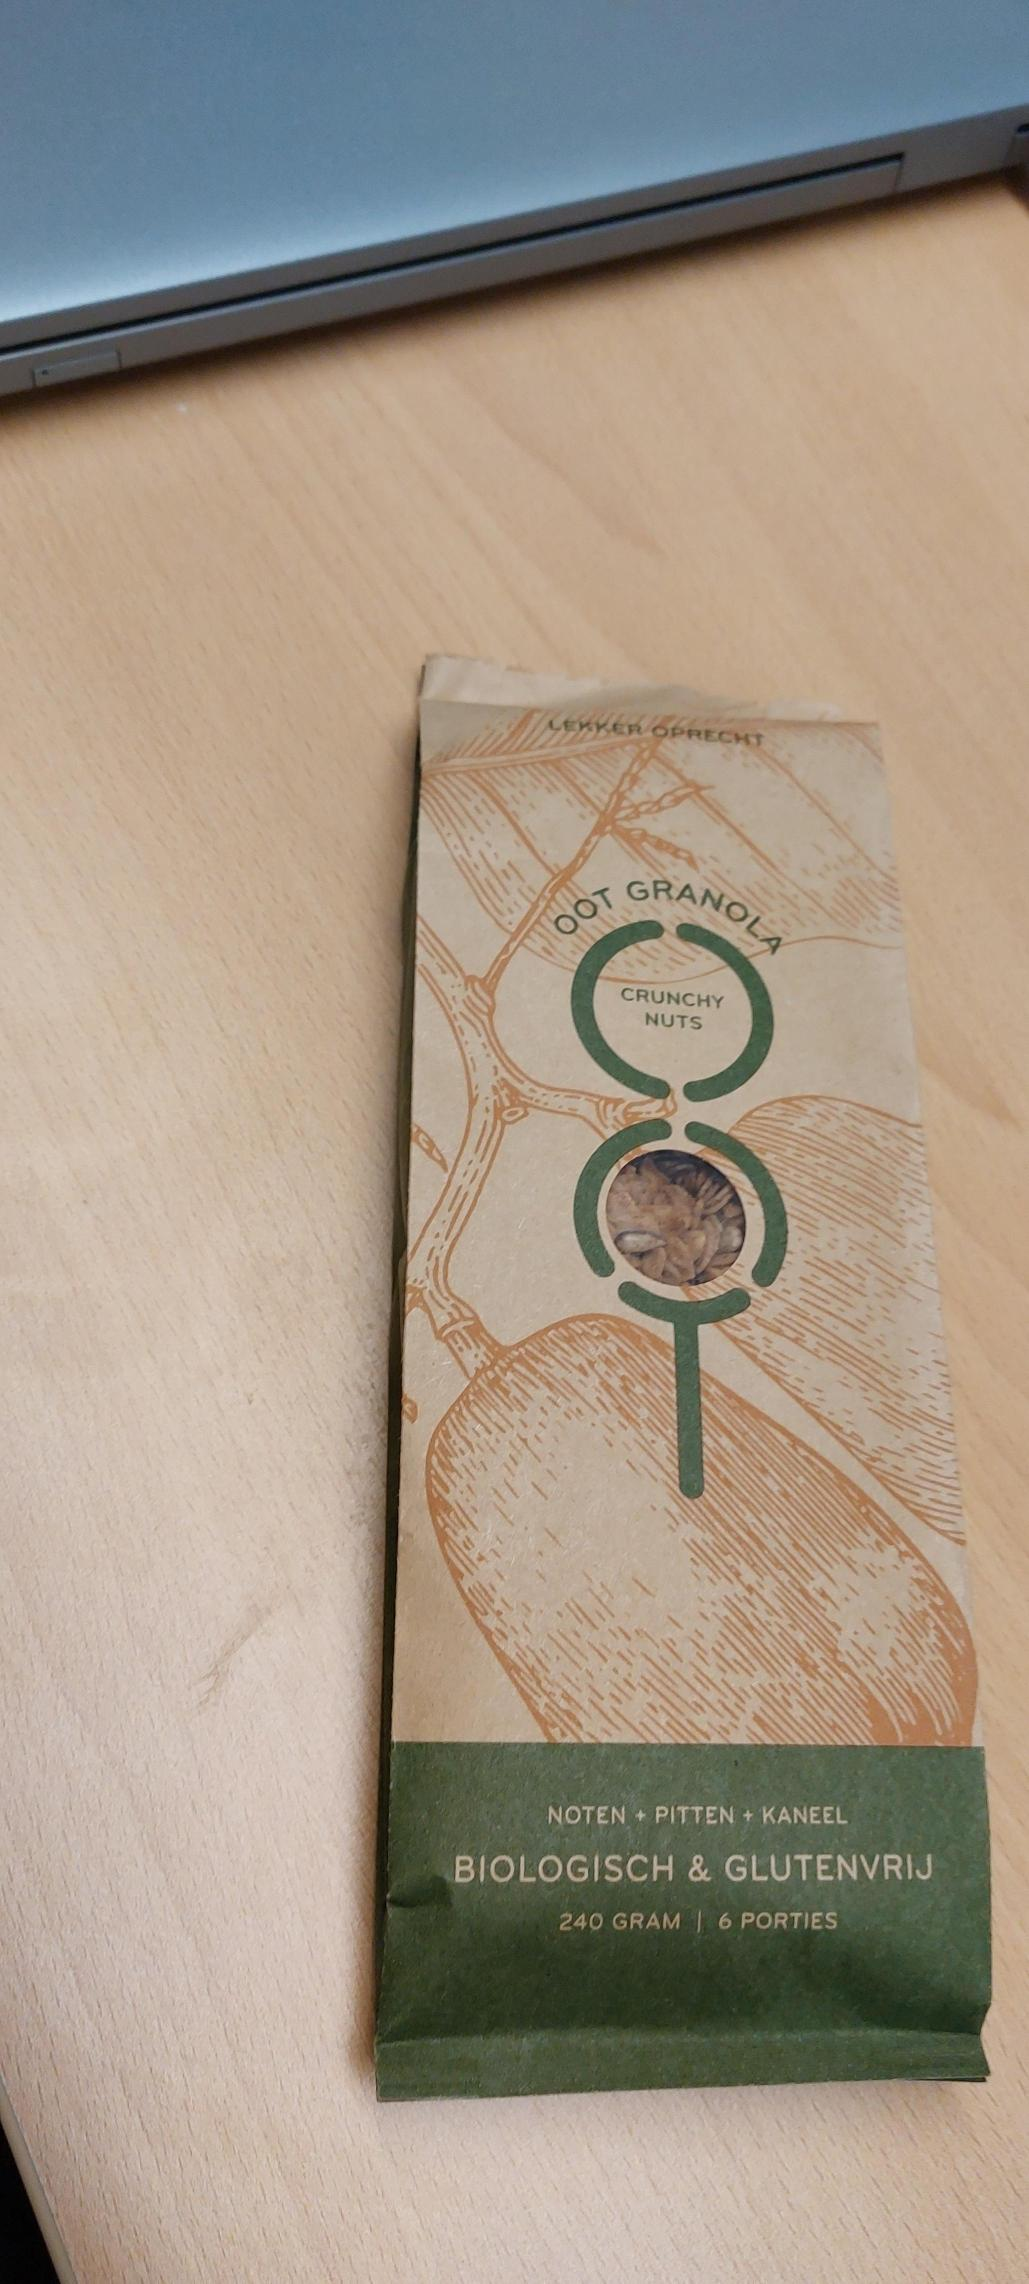CrunchyNuts: (429, 688, 944, 2019)
